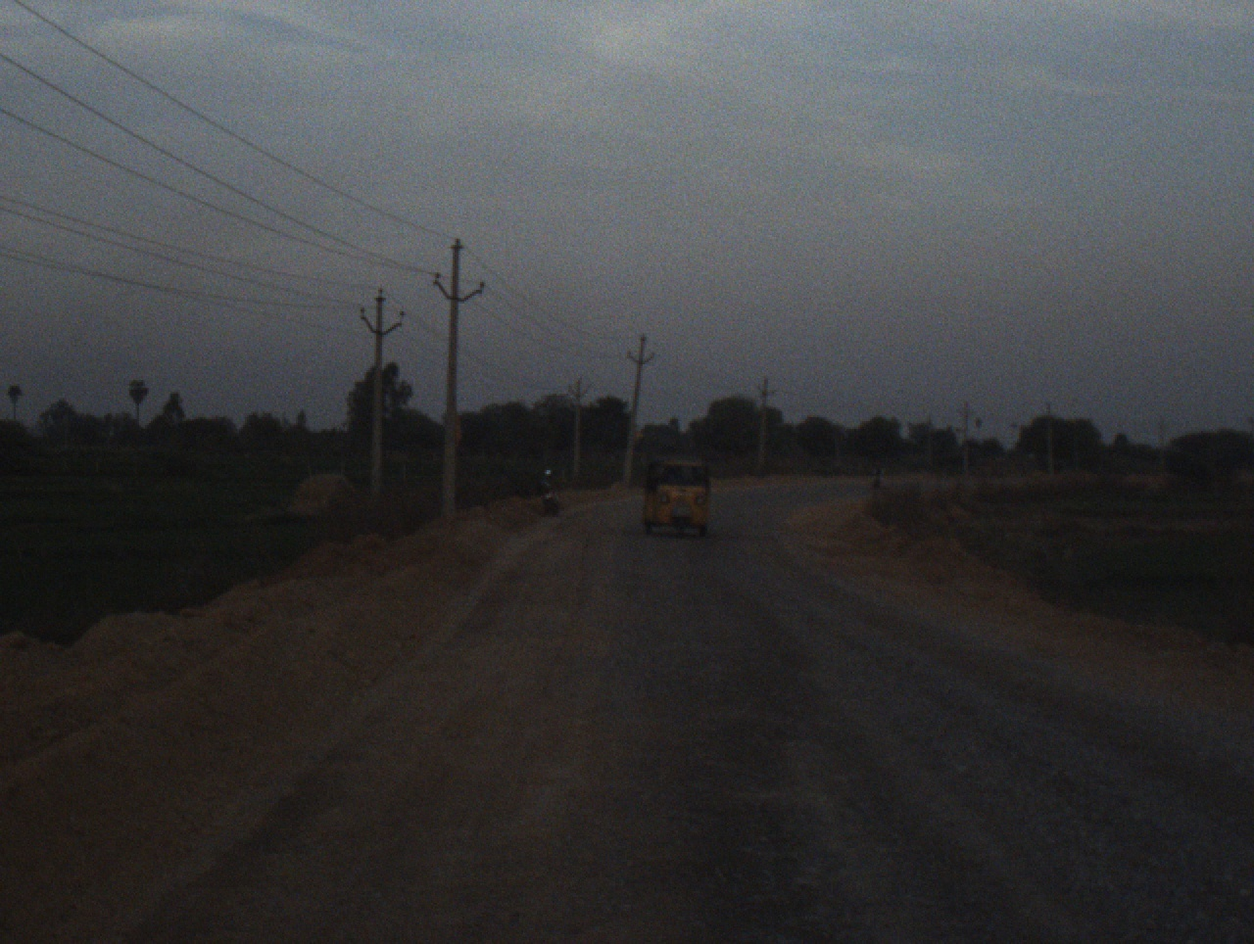autorickshaw: (639, 454, 713, 540)
motorcycle: (531, 465, 559, 517)
